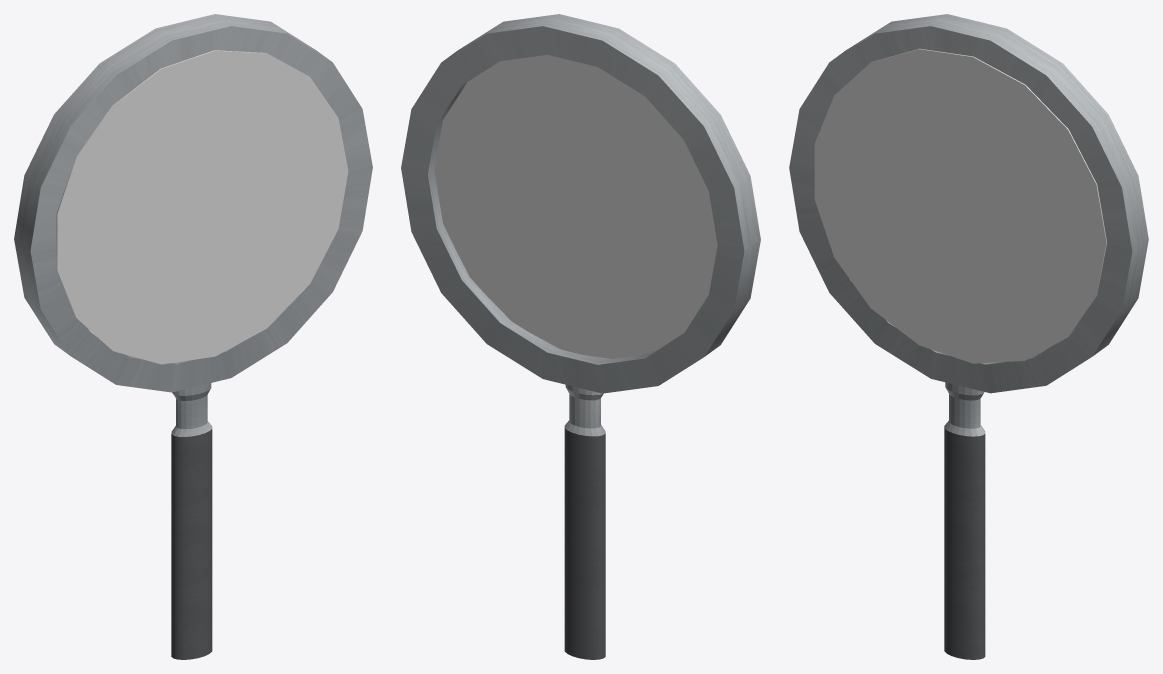
File: LampLight_3DAsset_MagnifyingGlass.FBX
3 renders of one model, left to right at view 1: azimuth 30°, elevation 25°; view 2: azimuth 150°, elevation 25°; view 3: azimuth 330°, elevation 25°, orthographic.
Visible parts, largest first — view 1: MagnifyingGlass_Glass_Lens, MagnifyingGlass_Lens, MagnifyingGlass_Handle; view 2: MagnifyingGlass_Glass_Lens, MagnifyingGlass_Lens, MagnifyingGlass_Handle; view 3: MagnifyingGlass_Glass_Lens, MagnifyingGlass_Lens, MagnifyingGlass_Handle.
Part boxes in pixels (bbox=[...]): MagnifyingGlass_Glass_Lens: bbox=[56, 50, 348, 364]; MagnifyingGlass_Lens: bbox=[14, 14, 372, 392]; MagnifyingGlass_Handle: bbox=[171, 383, 212, 659]; MagnifyingGlass_Glass_Lens: bbox=[434, 55, 717, 358]; MagnifyingGlass_Lens: bbox=[401, 14, 760, 393]; MagnifyingGlass_Handle: bbox=[564, 385, 605, 659]; MagnifyingGlass_Glass_Lens: bbox=[814, 48, 1106, 363]; MagnifyingGlass_Lens: bbox=[789, 14, 1148, 393]; MagnifyingGlass_Handle: bbox=[944, 382, 985, 659].
Bounding box in the file's own units: 23.34 × 40.65 × 2.02.
